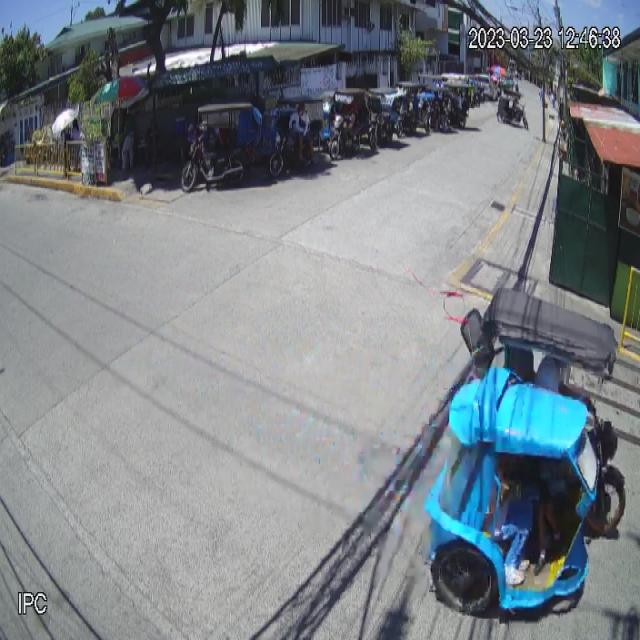Tricycle: (424, 288, 627, 612)
